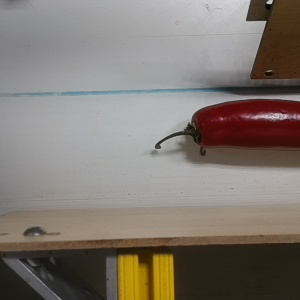Cut Point: (182, 108, 213, 147)
